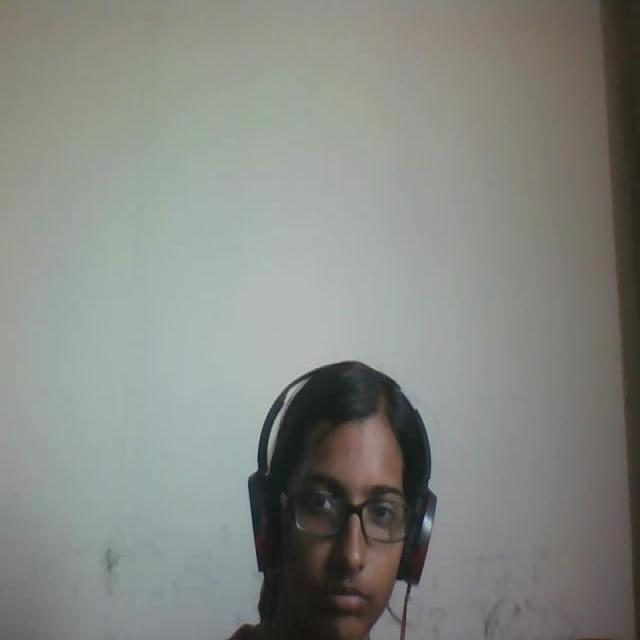Engaged: (208, 348, 435, 640)
